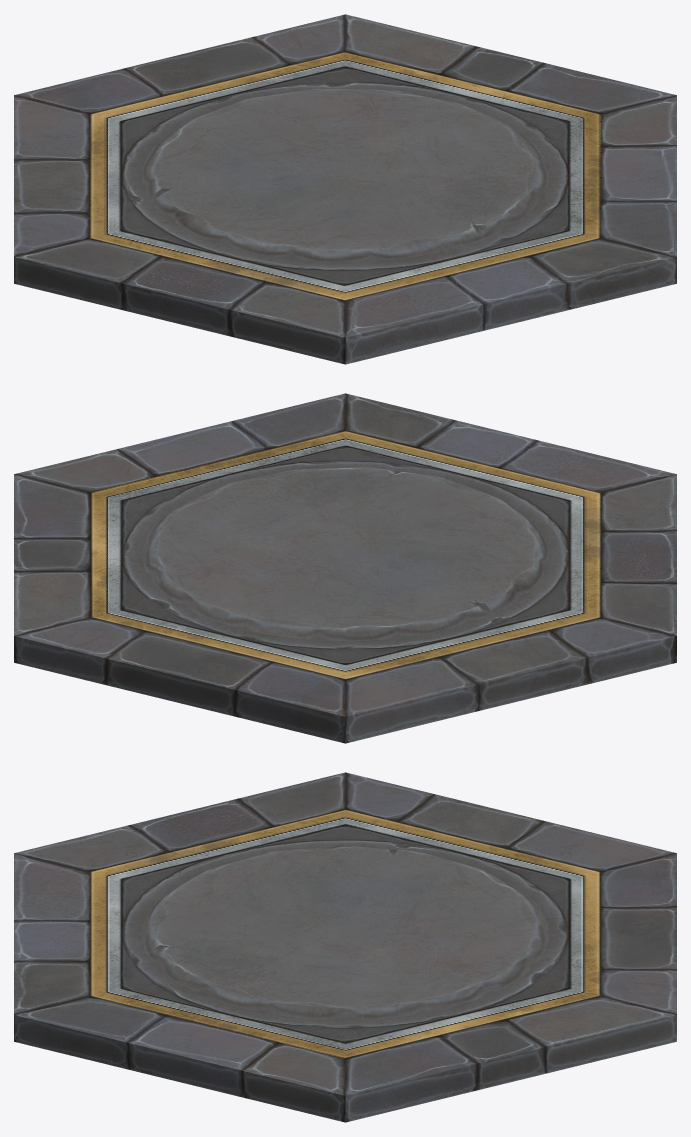
File: Trap_Base.fbx
The picture shows the model from 3 angles, top to bottom: view 1: azimuth 30°, elevation 25°; view 2: azimuth 150°, elevation 25°; view 3: azimuth 270°, elevation 25°; orthographic projection.
Visible parts, largest first — view 1: Hexagon, Cylinder; view 2: Hexagon, Cylinder; view 3: Hexagon, Cylinder.
Part boxes in pixels (<box>): Hexagon: <box>14,14,676,364</box>; Cylinder: <box>141,88,549,262</box>; Hexagon: <box>14,393,676,743</box>; Cylinder: <box>141,467,549,641</box>; Hexagon: <box>14,772,676,1122</box>; Cylinder: <box>139,845,551,1021</box>.
Bounding box in the file's own units: 10.4 × 0.5 × 9.
1 material, 1 textured.
